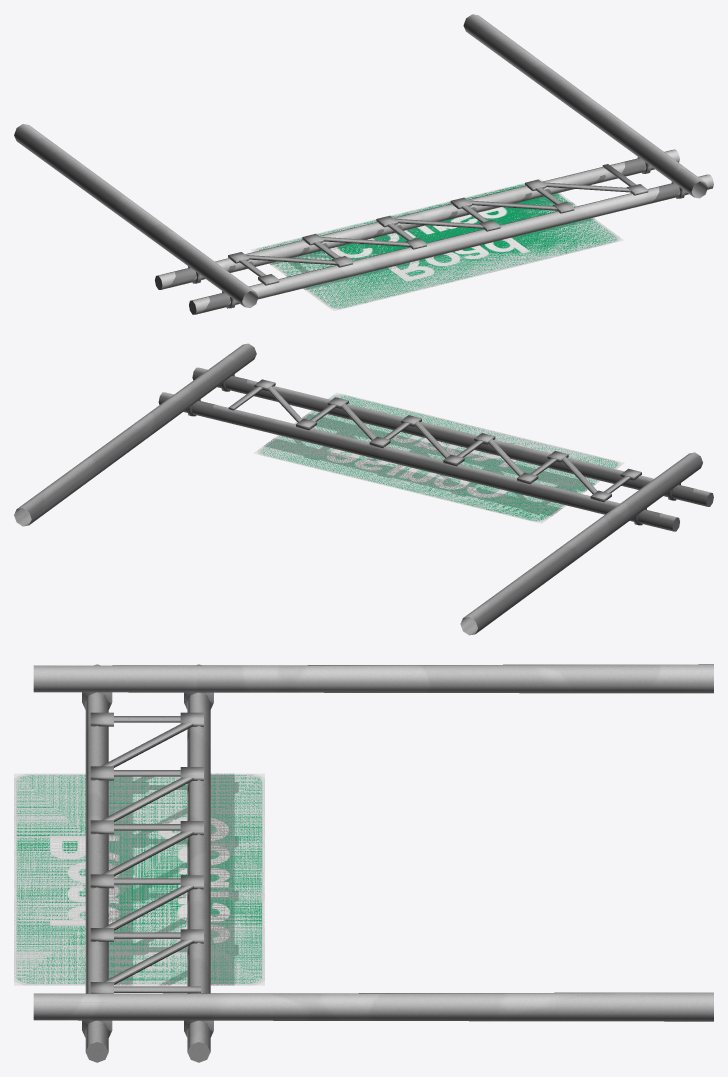
The model's file is road_course_sign.obj.
The picture shows the model from 3 angles, top to bottom: view 1: azimuth 30°, elevation 25°; view 2: azimuth 150°, elevation 25°; view 3: azimuth 270°, elevation 25°; orthographic projection. The views are drawn at different scales.
Visible parts, largest first — view 1: road_course_sign; view 2: road_course_sign; view 3: road_course_sign.
Part boxes in pixels (box(x1,y1,x2,y2)): road_course_sign: box(14, 14, 713, 314); road_course_sign: box(14, 343, 713, 635); road_course_sign: box(14, 664, 713, 1062).
Size of the model in its own units: 23.15 by 1.5 by 18.13.
Materials: 1 (1 with a texture image).
